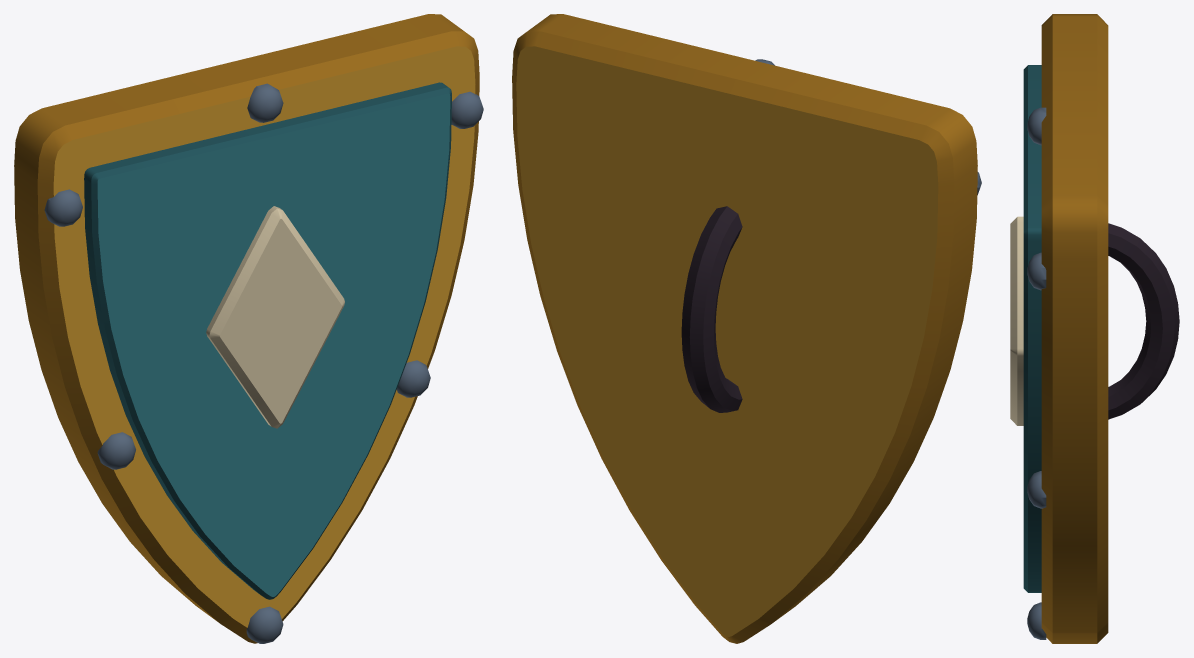
Rendered from HeaterShield_18.glb.
3 views of the same model, side by side, from view 1: azimuth 30°, elevation 25°; view 2: azimuth 150°, elevation 25°; view 3: azimuth 270°, elevation 25° (orthographic). The views are drawn at different scales.
Parts seen in each view (by area): view 1: HeaterShield_18; view 2: HeaterShield_18; view 3: HeaterShield_18.
Boxes of the visible parts, bbox=[...] form: HeaterShield_18: bbox=[14, 14, 483, 643]; HeaterShield_18: bbox=[512, 14, 981, 643]; HeaterShield_18: bbox=[1010, 14, 1179, 643].
Bounding box in the file's own units: 2.18 × 2.65 × 0.76.
